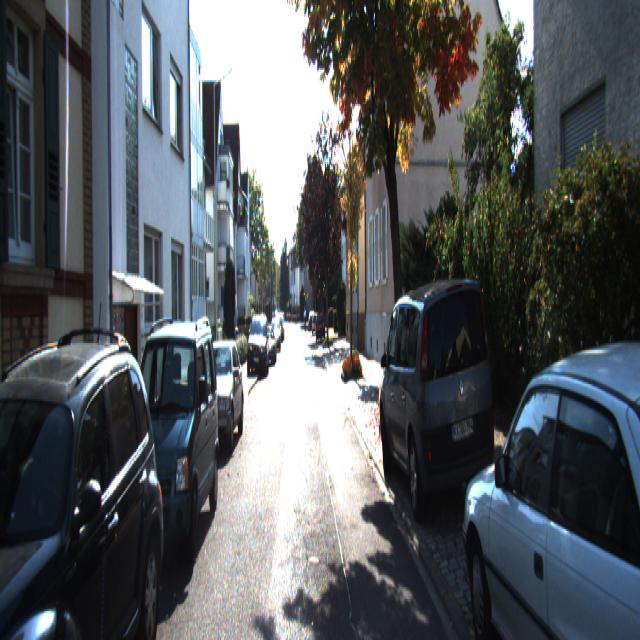Car: (458, 324, 640, 638), (0, 312, 168, 638), (373, 268, 501, 534), (116, 316, 220, 584), (187, 335, 244, 460), (247, 311, 269, 378)
